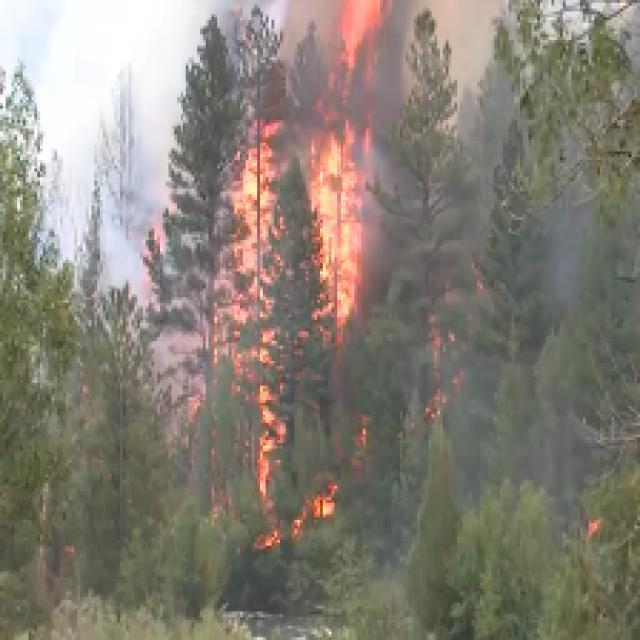Fire: (318, 138, 358, 314), (244, 149, 272, 311)
